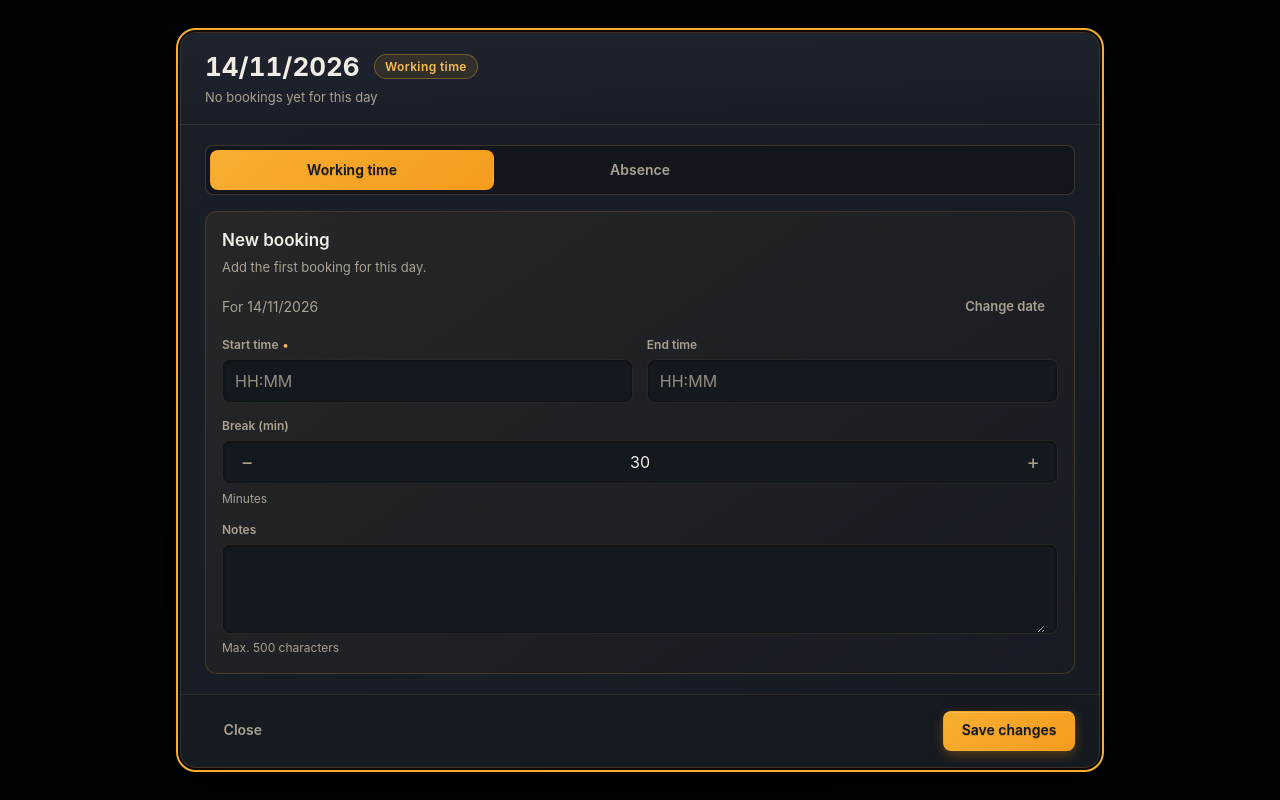
Test: TimeEntryDialog › rejects times that are not valid 24-hour values
Check: the heading "New booking" is shown, box [222, 230, 330, 250]
Type "25:99" into the field labelled "Start time•" at (428, 382), box [235, 360, 620, 402]
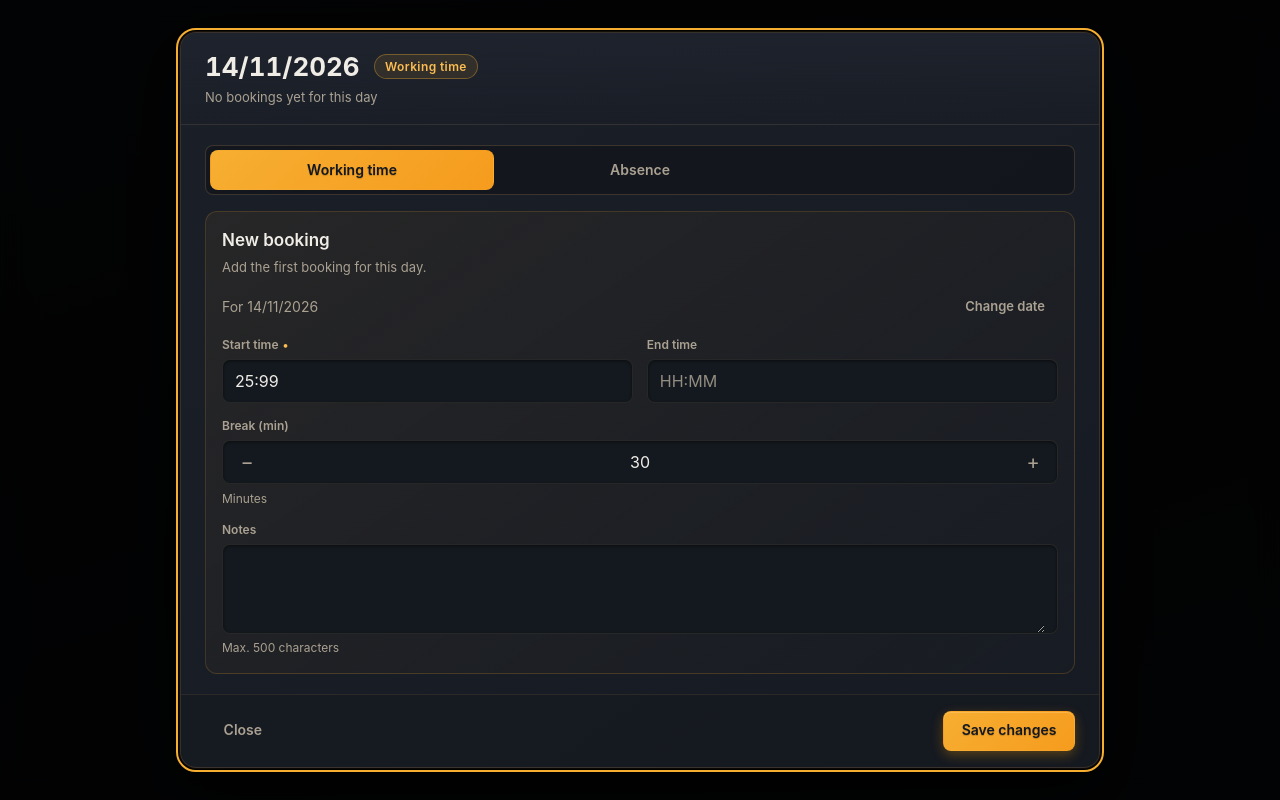
Click the button "Save changes" at (1009, 731), box [943, 711, 1075, 751]
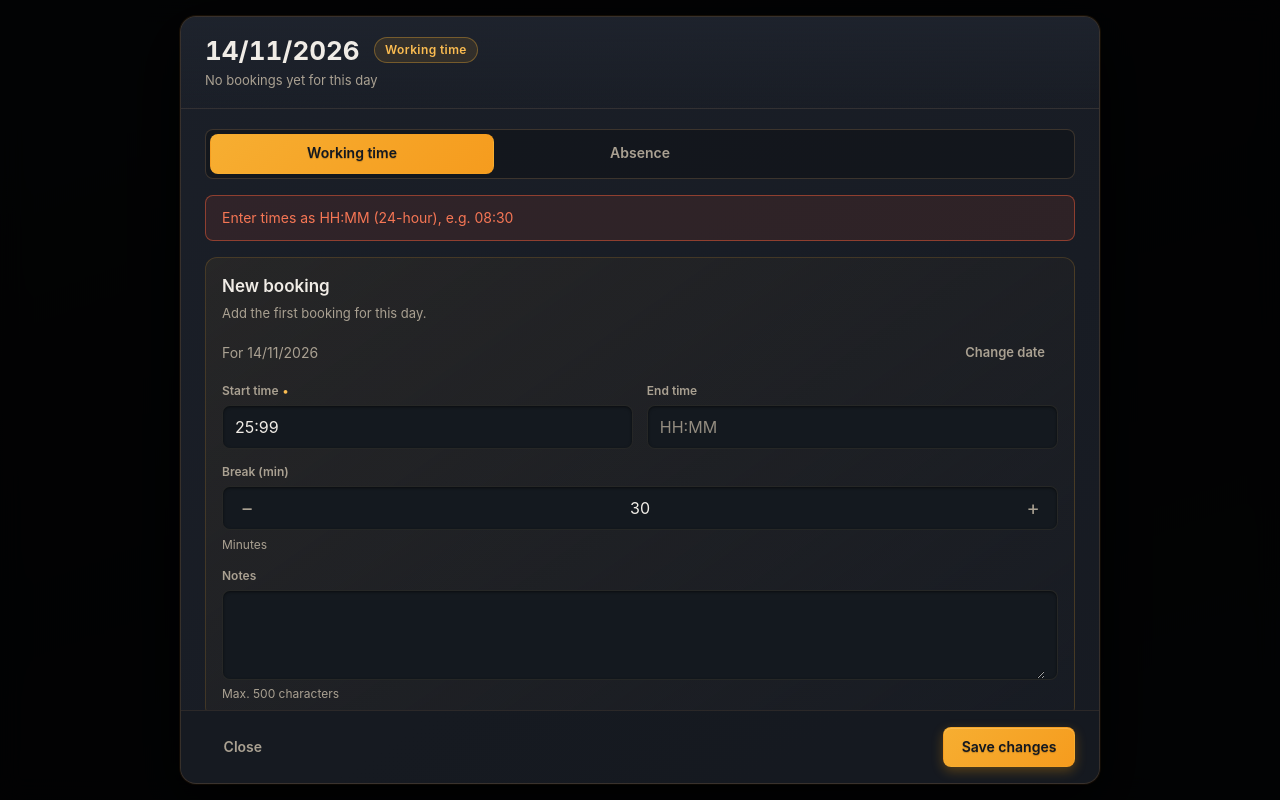
Check: the message shows "HH:MM (24-hour)", box [222, 209, 514, 226]
